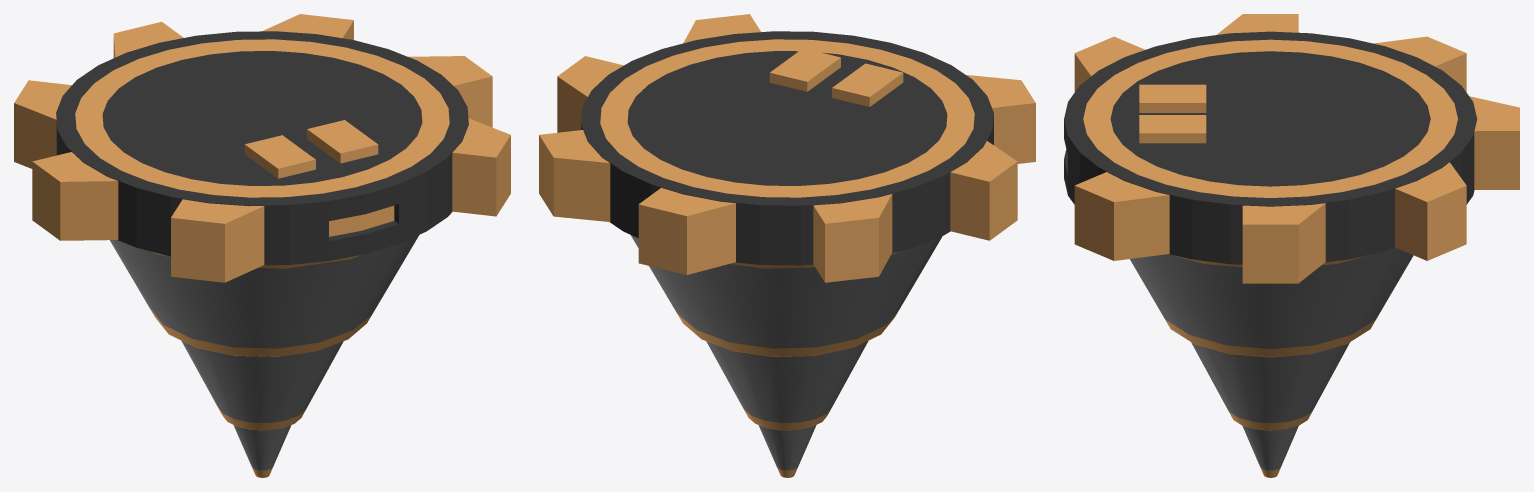
Rendered from Drill.gltf.
3 renders of one model, left to right at view 1: azimuth 30°, elevation 25°; view 2: azimuth 150°, elevation 25°; view 3: azimuth 270°, elevation 25°, orthographic.
Visible parts, largest first — view 1: DrillBody, DrillSpikes, DrillTop, DrillMiddle, DrillEyes, DrillBottom; view 2: DrillBody, DrillSpikes, DrillTop, DrillMiddle, DrillEyes, DrillBottom; view 3: DrillBody, DrillSpikes, DrillTop, DrillMiddle, DrillEyes, DrillBottom.
Boxes of the visible parts, x1,y1,x2,y2 form: DrillBody: [56, 31, 468, 265]; DrillSpikes: [14, 14, 510, 282]; DrillTop: [110, 235, 418, 356]; DrillMiddle: [181, 340, 343, 430]; DrillEyes: [244, 120, 378, 178]; DrillBottom: [233, 425, 291, 477]; DrillBody: [581, 31, 993, 265]; DrillSpikes: [539, 14, 1035, 282]; DrillTop: [631, 235, 942, 356]; DrillMiddle: [706, 340, 868, 430]; DrillEyes: [769, 48, 903, 106]; DrillBottom: [758, 425, 816, 477]; DrillBody: [1064, 31, 1477, 264]; DrillSpikes: [1074, 14, 1519, 283]; DrillTop: [1130, 247, 1413, 357]; DrillMiddle: [1191, 342, 1349, 430]; DrillEyes: [1139, 84, 1206, 143]; DrillBottom: [1242, 425, 1298, 477].
Size of the model in its own units: 0.6699 by 0.5427 by 0.6125.
